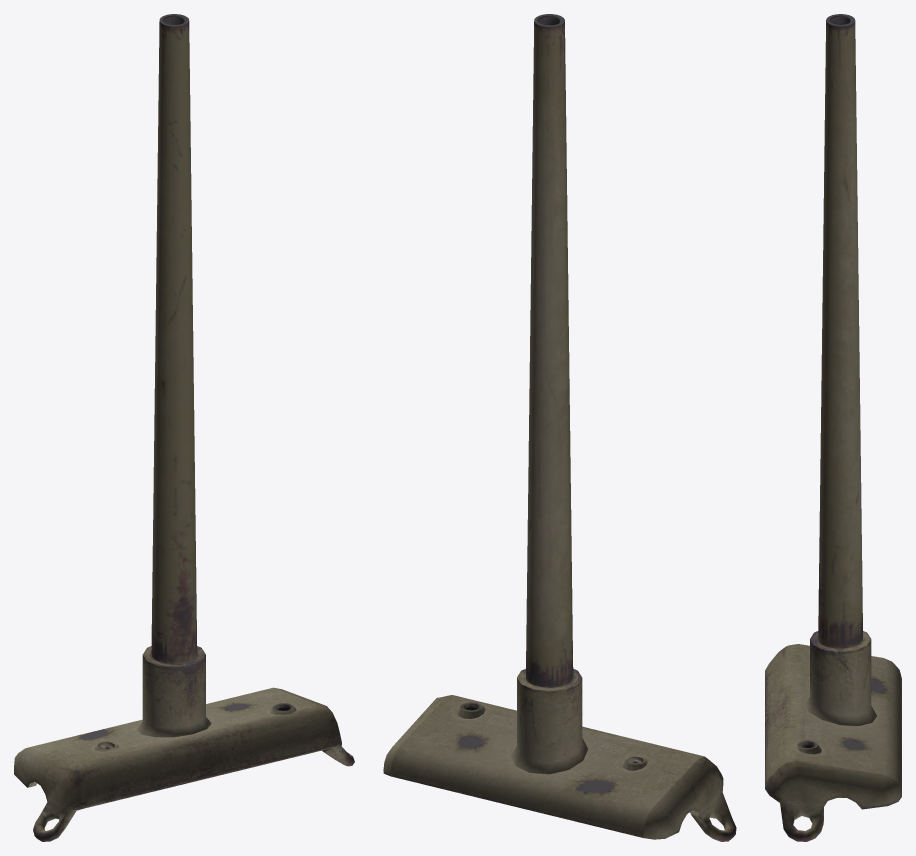
The model's file is Gun_02.glb.
3 views of the same model, side by side, from view 1: azimuth 30°, elevation 25°; view 2: azimuth 150°, elevation 25°; view 3: azimuth 270°, elevation 25° (orthographic). The views are drawn at different scales.
Visible parts, largest first — view 1: set_0_group_0; view 2: set_0_group_0; view 3: set_0_group_0.
Boxes of the visible parts, box(x1,y1,x2,y2) form: set_0_group_0: box(14, 14, 354, 841); set_0_group_0: box(383, 14, 736, 841); set_0_group_0: box(765, 14, 901, 841).
Bounding box in the file's own units: 1.34 × 3.12 × 0.5169.
Materials: 1 (1 with a texture image).
